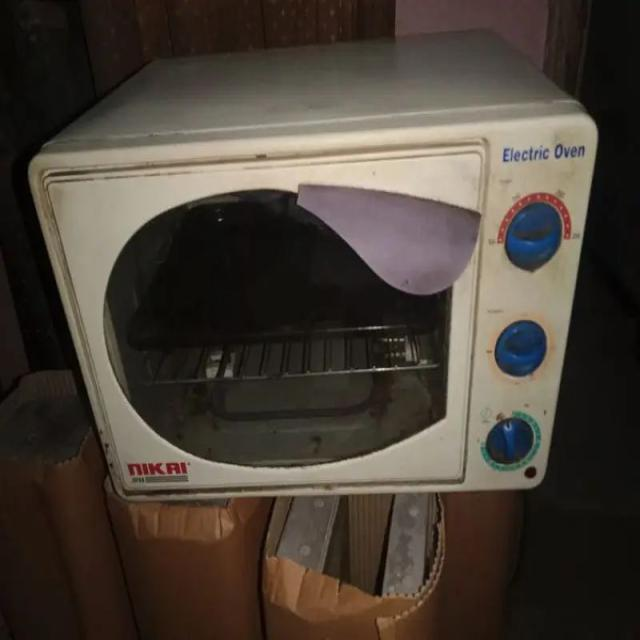electronic: (28, 26, 598, 504)
